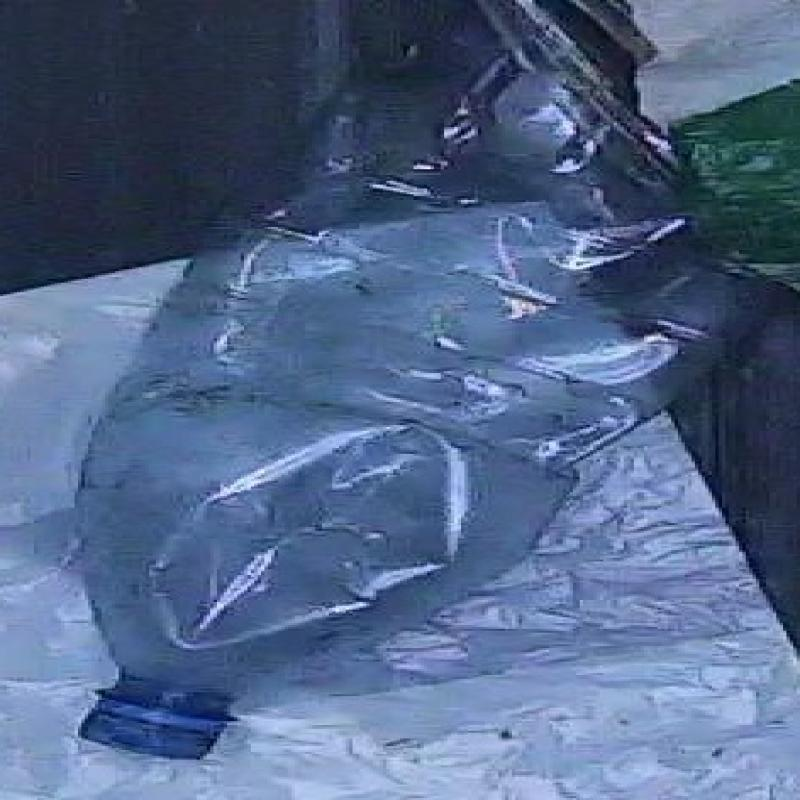botella: (65, 25, 770, 761)
